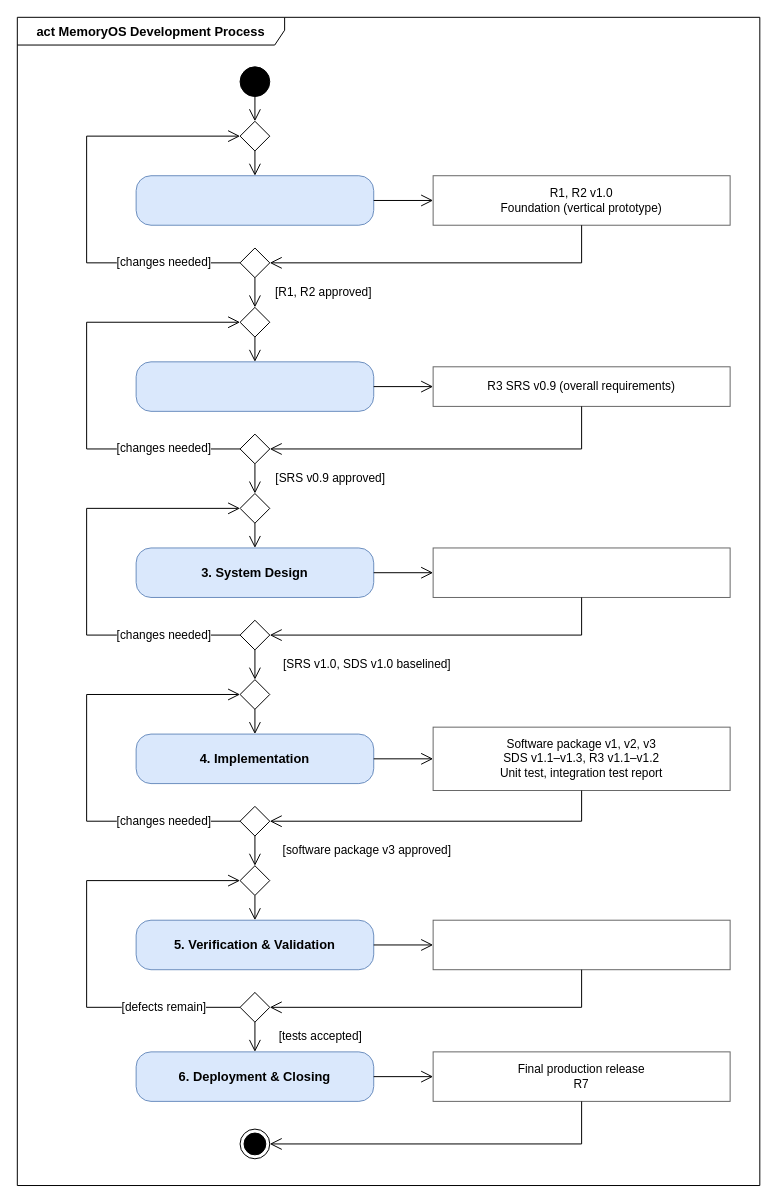
This 777x1203 diagram has some shape labels left out. Here are the shapes that lost their labels. From the top down, the centre of each, then its label:
At (254,200): "1. Initiation & Planning".
At (254,386): "2. Requirements Analysis".
At (581,572): "R4 SDS v1.0, R5 test plan R3 SRS v1.0 (baseline)".
At (581,944): "System test report, acceptance test R6 user guides, final software package".
